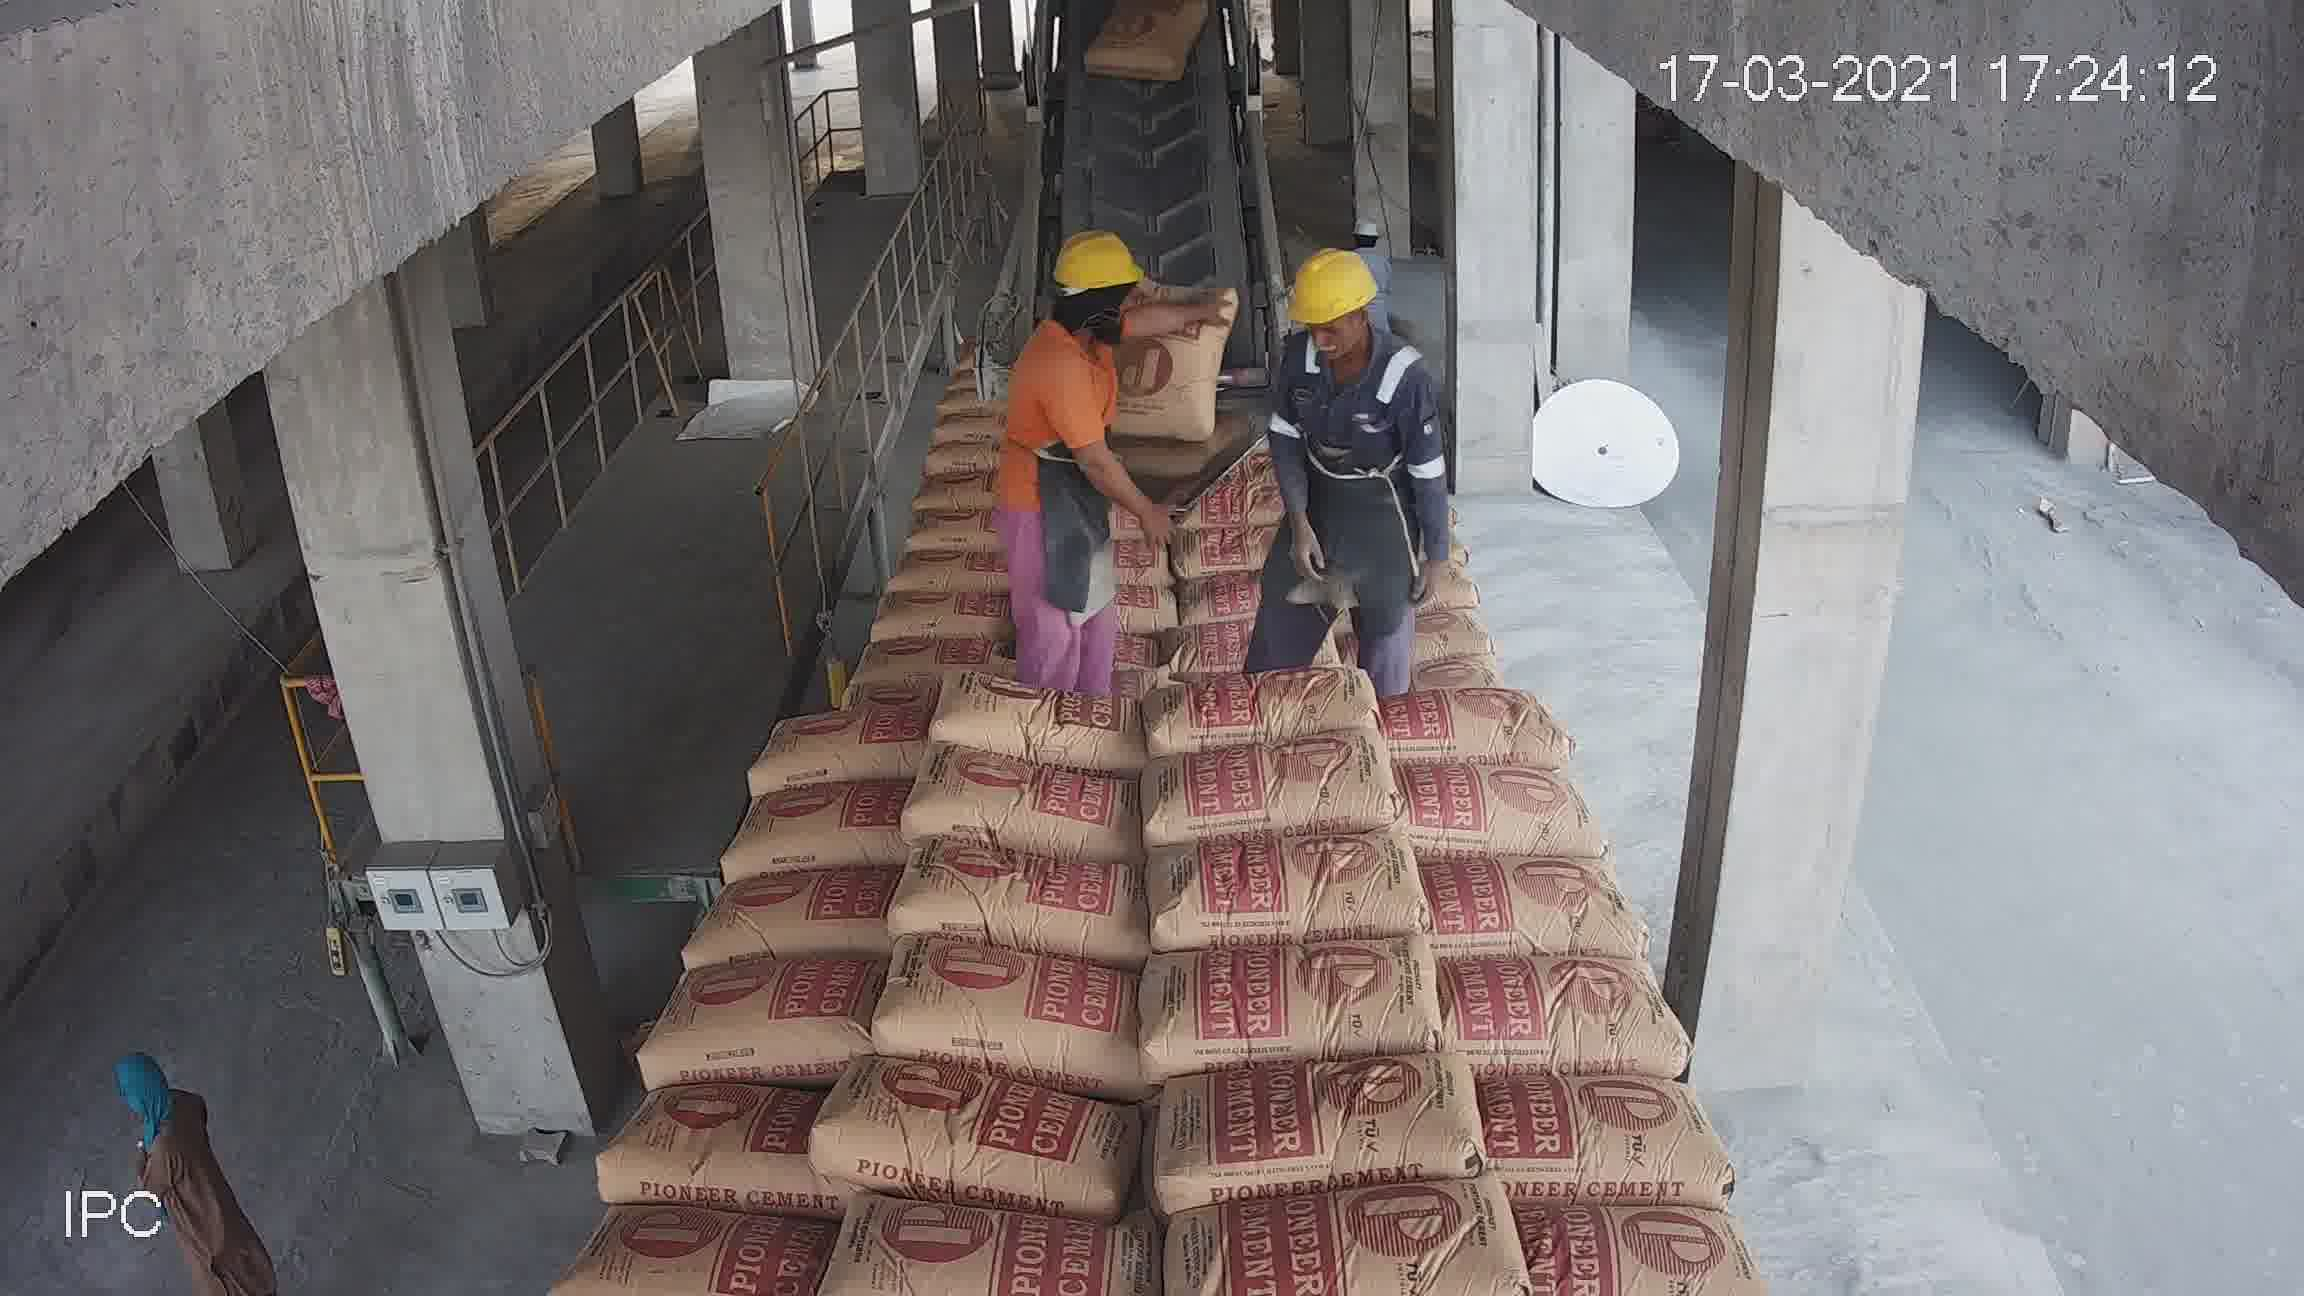bag: (1106, 195, 1184, 297), (1103, 6, 1193, 81)
bag_h: (1150, 1044, 1465, 1223), (1155, 1177, 1548, 1294), (570, 1060, 851, 1193), (1473, 1054, 1733, 1190), (853, 1052, 1157, 1166), (896, 943, 1173, 1062), (1119, 940, 1442, 1038), (620, 964, 892, 1079), (544, 1177, 836, 1272), (1138, 828, 1424, 923), (1521, 1180, 1787, 1279), (1438, 836, 1649, 959), (842, 1195, 1150, 1279), (878, 766, 1149, 861), (1459, 949, 1679, 1062), (682, 850, 911, 954), (896, 842, 1138, 937), (1160, 585, 1438, 668), (1154, 733, 1416, 817), (1386, 755, 1605, 847), (744, 696, 934, 794), (1347, 696, 1586, 772), (734, 779, 919, 873), (1160, 658, 1396, 733), (772, 620, 956, 714), (1361, 630, 1581, 706), (1155, 532, 1389, 598), (923, 687, 1171, 747), (962, 601, 1193, 661), (987, 446, 1176, 517), (791, 593, 968, 660), (831, 529, 987, 598), (983, 538, 1149, 603), (836, 487, 992, 554), (972, 510, 1157, 563), (1313, 476, 1484, 533), (1353, 519, 1514, 576), (1280, 383, 1445, 438), (1324, 411, 1454, 472), (1389, 570, 1529, 625), (1176, 457, 1331, 506), (1190, 502, 1359, 546), (1070, 337, 1184, 397), (1271, 307, 1385, 364), (1048, 415, 1166, 465), (1054, 389, 1184, 430), (1298, 366, 1426, 404), (1307, 339, 1412, 380)
belt: (1052, 22, 1263, 309)
